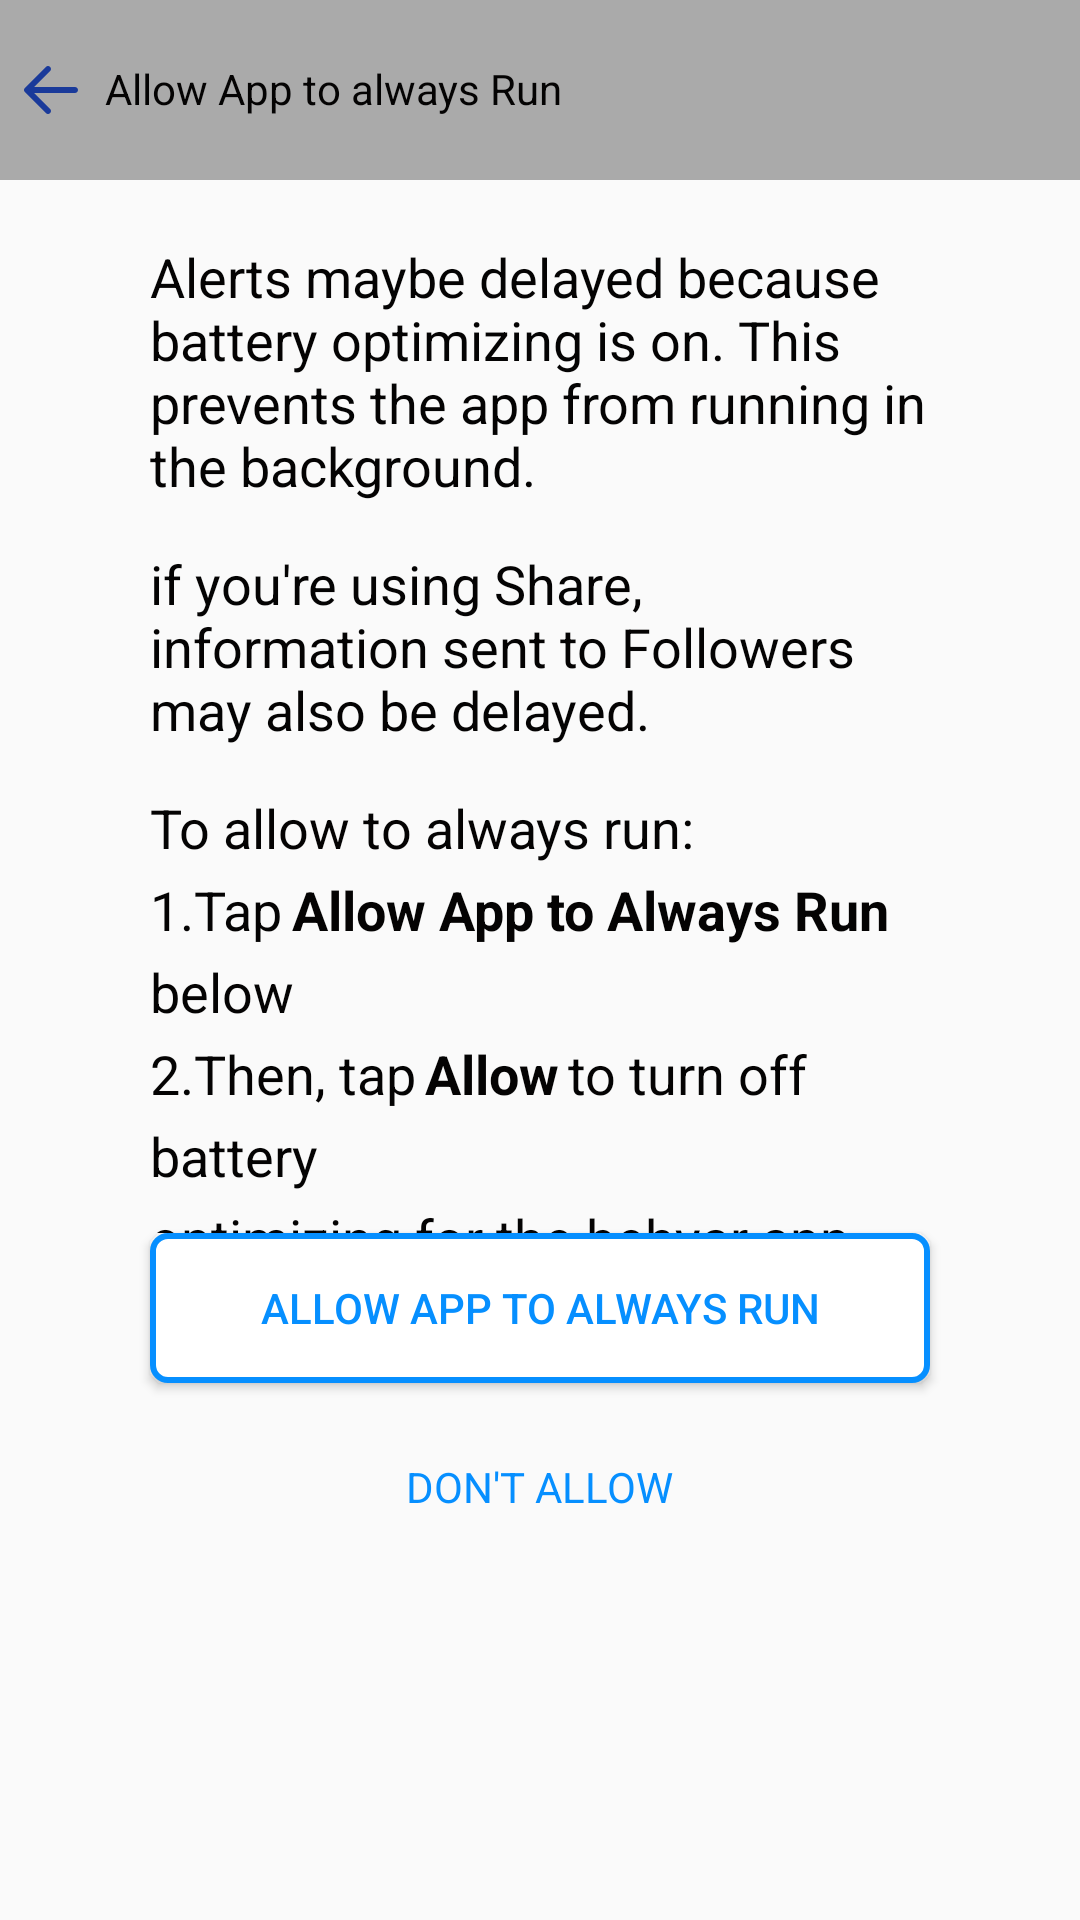

Where to tap for icons on this 1080w x 1920h app screen, as (x=x, y=y):
left: (x=51, y=90)
